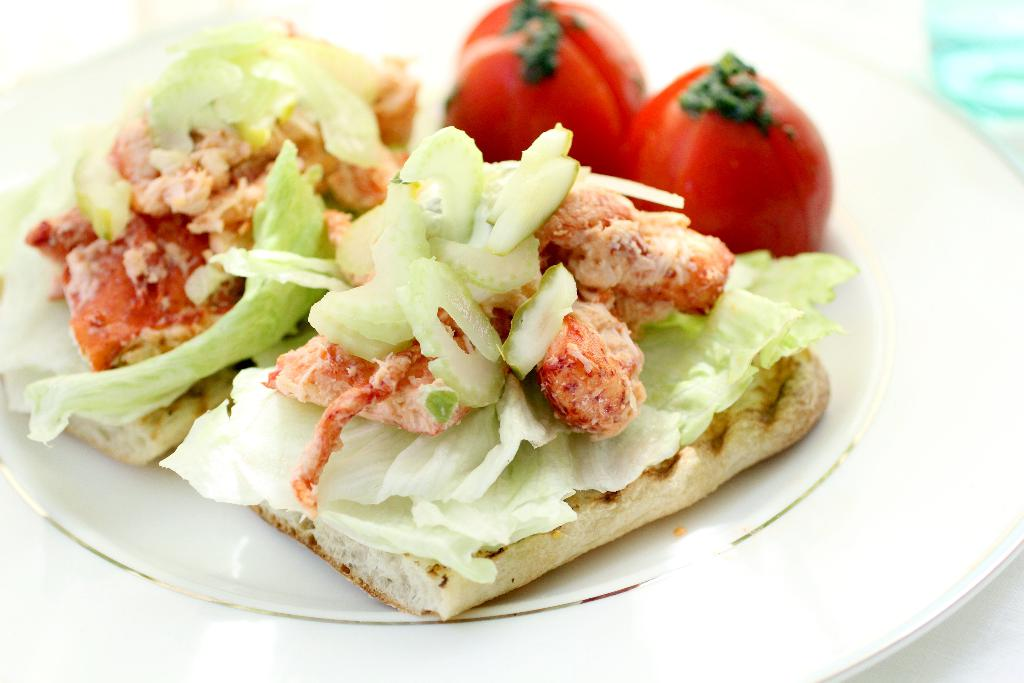Tomato: (625, 51, 833, 255)
